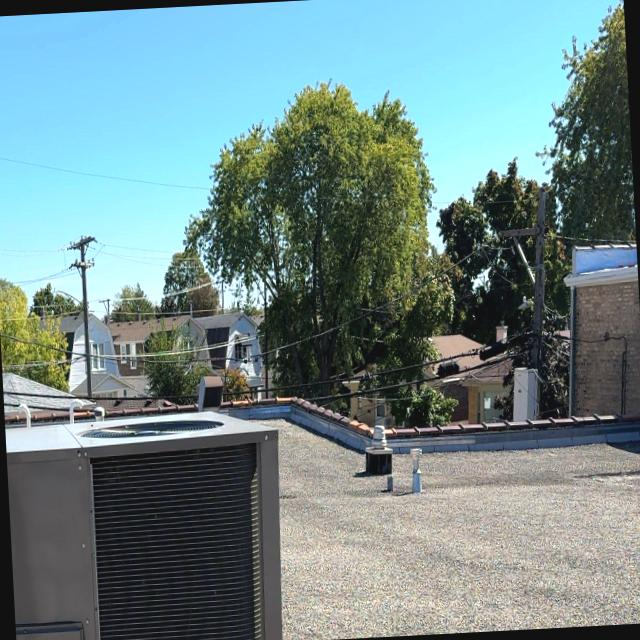GRAVITY-VENT: (365, 421, 396, 476), (408, 444, 424, 500)
RTU: (5, 405, 290, 640)
